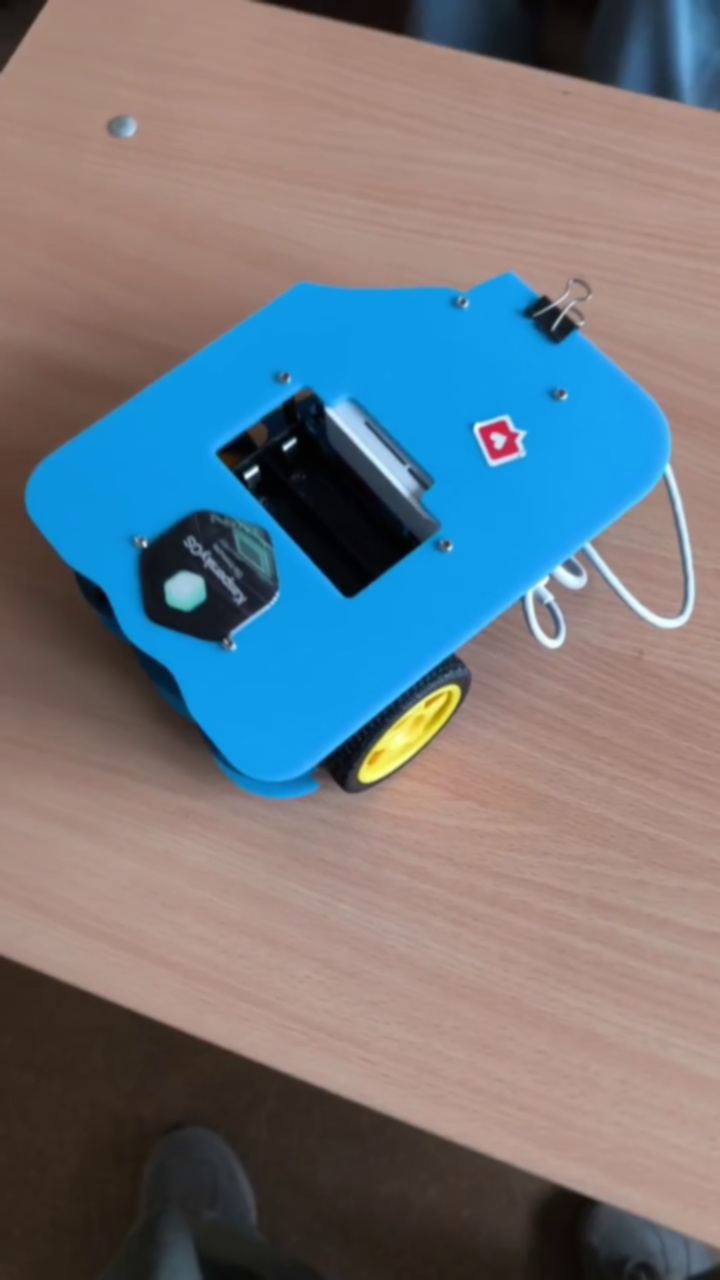robot: (17, 268, 699, 802)
